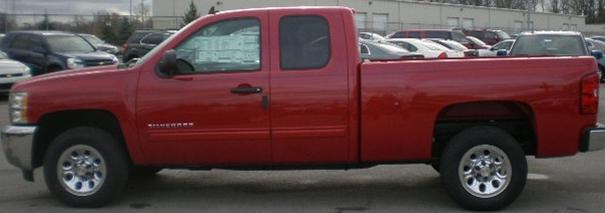backlight: (569, 69, 603, 120)
headlight: (6, 86, 33, 128)
side_glass: (161, 18, 344, 72)
